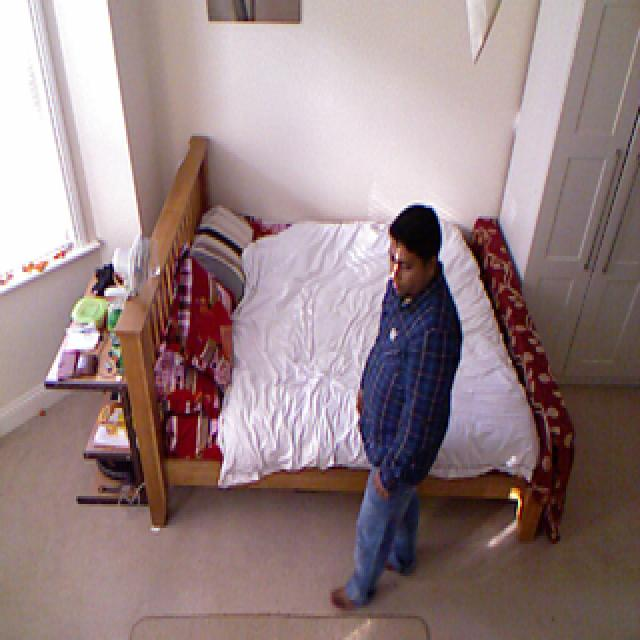standing: (347, 205, 463, 607)
